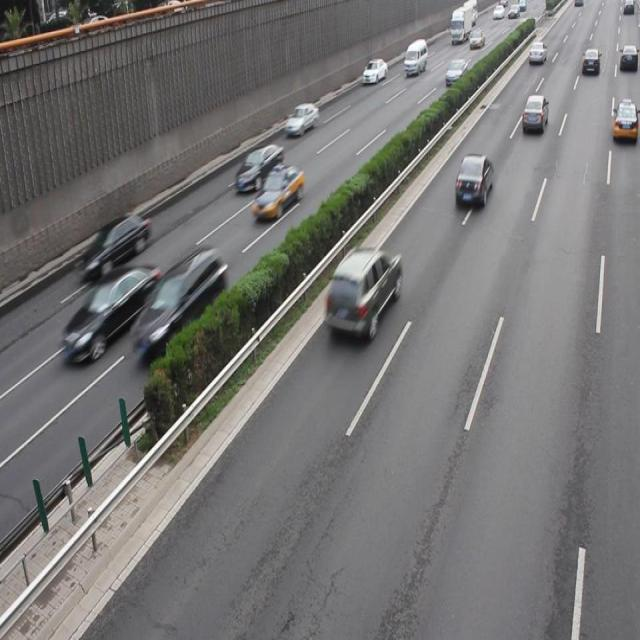car: (130, 244, 226, 356), (59, 263, 158, 363), (322, 244, 402, 340), (77, 212, 150, 280), (250, 162, 302, 218), (234, 141, 284, 193), (454, 152, 491, 209), (610, 99, 640, 141), (284, 102, 318, 136), (520, 94, 547, 132)
